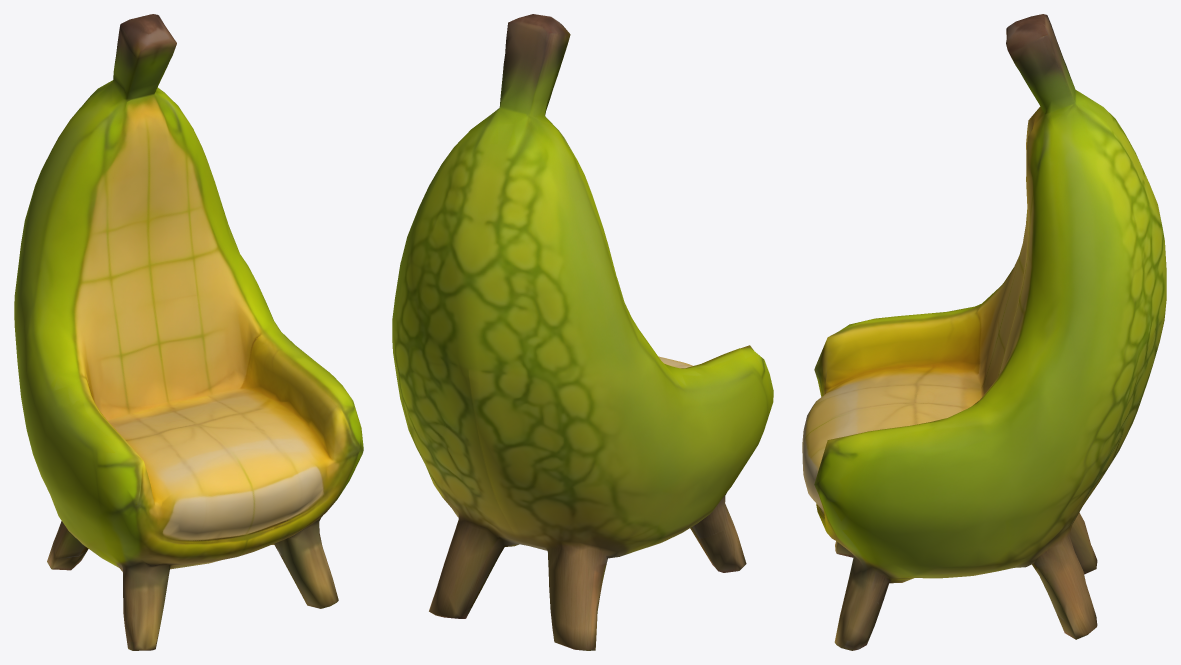
Rendered from Banana_Chair_1130052235_texture.fbx.
The picture shows the model from 3 angles, left to right: view 1: azimuth 30°, elevation 25°; view 2: azimuth 150°, elevation 25°; view 3: azimuth 270°, elevation 25°; orthographic projection. The views are drawn at different scales.
Visible parts, largest first — view 1: Mesh_0; view 2: Mesh_0; view 3: Mesh_0.
Boxes of the visible parts, box(x1,y1,x2,y2) form: Mesh_0: box(14, 14, 363, 650); Mesh_0: box(392, 14, 773, 650); Mesh_0: box(802, 14, 1166, 650).
Size of the model in its own units: 85.25 by 166 by 94.06.
1 material, 1 textured.
